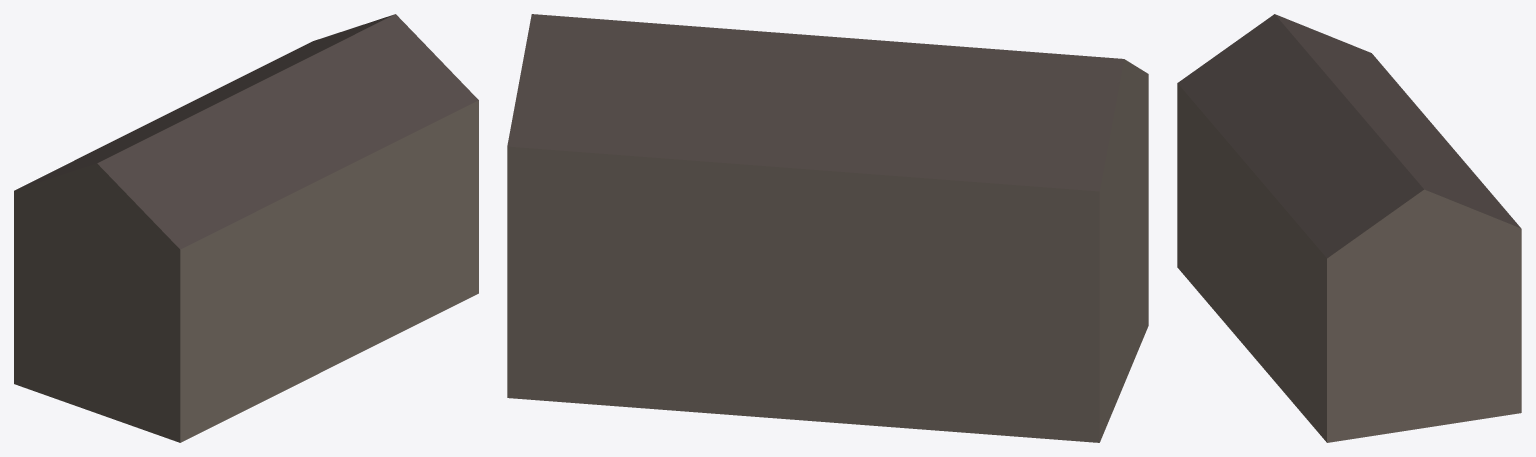
The picture shows the model from 3 angles, left to right: view 1: azimuth 30°, elevation 25°; view 2: azimuth 150°, elevation 25°; view 3: azimuth 270°, elevation 25°; orthographic projection. The views are drawn at different scales.
Visible parts, largest first — view 1: HP-w1199663723; view 2: HP-w1199663723; view 3: HP-w1199663723.
Part boxes in pixels (<box>): HP-w1199663723: <box>14,14,478,442</box>; HP-w1199663723: <box>507,14,1148,442</box>; HP-w1199663723: <box>1177,14,1521,442</box>.
Size of the model in its own units: 14.33 by 7.76 by 10.14.
